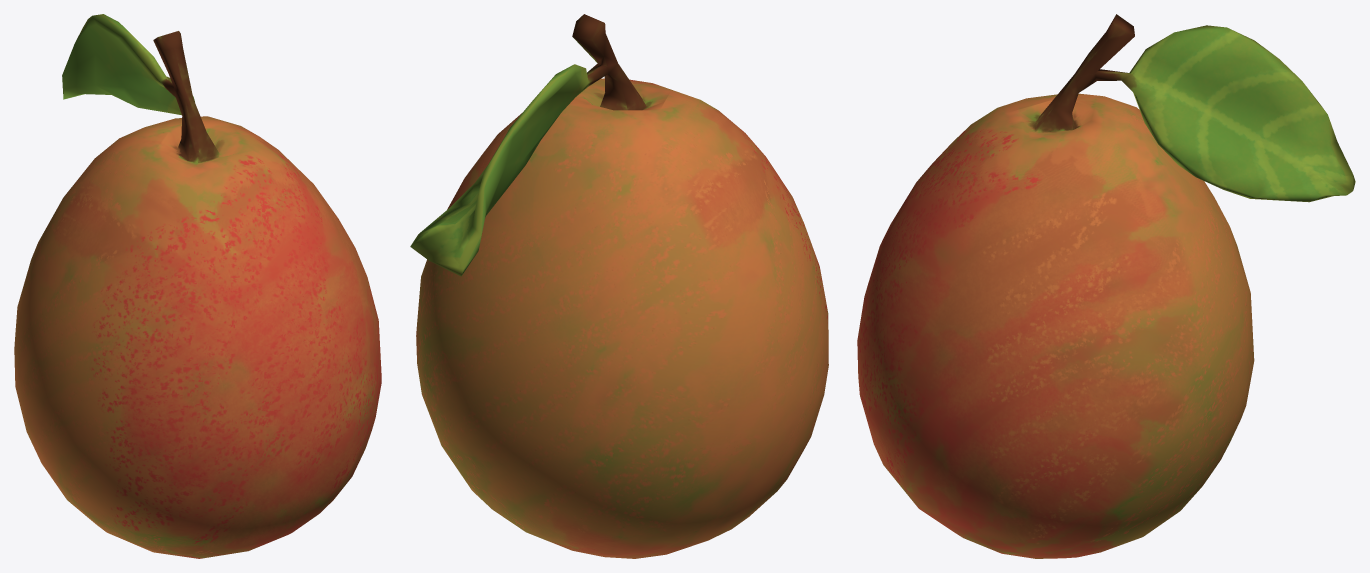
The model's file is mangoWithLeaf.fbx.
3 renders of one model, left to right at view 1: azimuth 30°, elevation 25°; view 2: azimuth 150°, elevation 25°; view 3: azimuth 270°, elevation 25°, orthographic. The views are drawn at different scales.
Parts seen in each view (by area): view 1: mango; view 2: mango; view 3: mango.
Boxes of the visible parts, x1,y1,x2,y2 form: mango: (14,14,381,558); mango: (410,14,828,558); mango: (857,14,1355,558).
Size of the model in its own units: 4.4 by 6.4 by 5.56.
